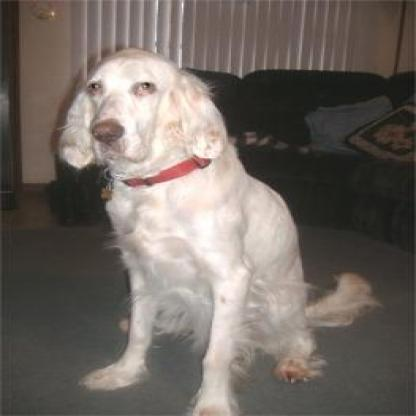English_setter: (52, 43, 381, 414)
